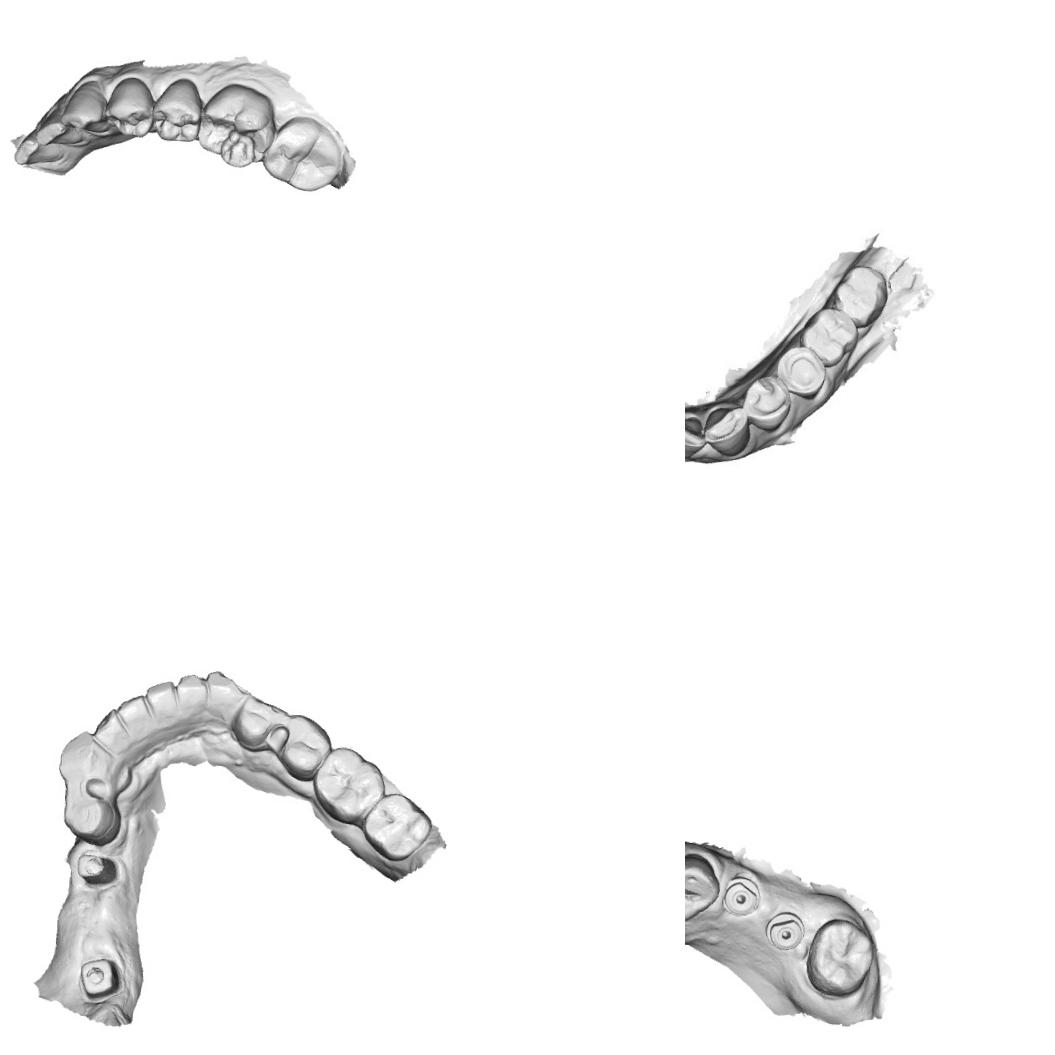abutment: (71, 953, 128, 1008), (72, 846, 122, 889)
canine: (52, 728, 116, 790), (698, 396, 756, 464), (56, 76, 114, 138), (201, 668, 249, 724)
implant: (718, 873, 764, 919), (763, 908, 806, 954)
incisor: (12, 130, 68, 170), (33, 112, 88, 148), (173, 672, 210, 710), (142, 678, 176, 716), (116, 692, 147, 727), (91, 706, 120, 742), (685, 408, 703, 461)
molar: (192, 78, 281, 171), (259, 111, 346, 195), (802, 913, 878, 1000), (309, 744, 388, 826), (359, 790, 434, 863), (830, 260, 890, 332), (797, 300, 857, 370)
premolar: (148, 73, 210, 145), (274, 711, 334, 783), (103, 72, 163, 142), (58, 791, 123, 848), (774, 342, 828, 408), (228, 694, 285, 754), (685, 848, 723, 926), (742, 374, 790, 435)
